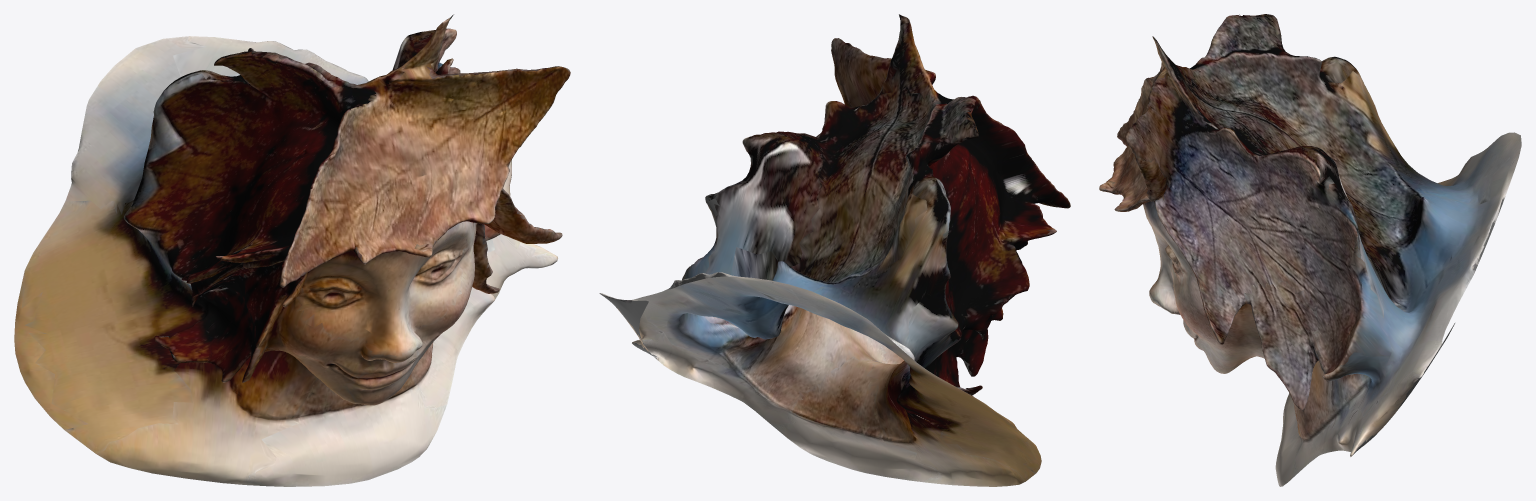
File: jolyHead.obj
3 views of the same model, side by side, from view 1: azimuth 30°, elevation 25°; view 2: azimuth 150°, elevation 25°; view 3: azimuth 270°, elevation 25° (orthographic). The views are drawn at different scales.
Parts seen in each view (by area): view 1: jolyHead; view 2: jolyHead; view 3: jolyHead.
Part boxes in pixels (x1=…): jolyHead: x1=14, y1=14, x2=570, y2=486; jolyHead: x1=599, y1=14, x2=1070, y2=486; jolyHead: x1=1099, y1=14, x2=1521, y2=486.
Size of the model in its own units: 39.16 by 36.74 by 31.91.
2 materials, 1 textured.
